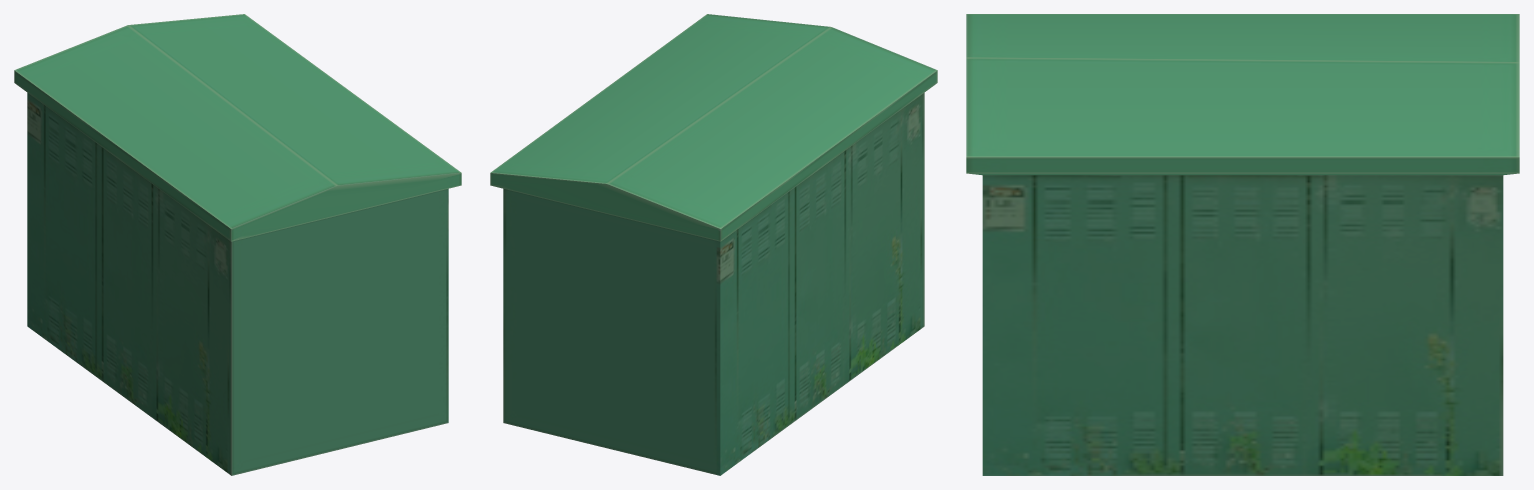
File: Transformer.fbx
3 renders of one model, left to right at view 1: azimuth 30°, elevation 25°; view 2: azimuth 150°, elevation 25°; view 3: azimuth 270°, elevation 25°, orthographic. The views are drawn at different scales.
Parts seen in each view (by area): view 1: Transformer1; view 2: Transformer1; view 3: Transformer1.
Part boxes in pixels (left/top/right/bottom): Transformer1: left=14, top=14, right=461, bottom=475; Transformer1: left=490, top=14, right=937, bottom=475; Transformer1: left=966, top=14, right=1519, bottom=475.
Bounding box in the file's own units: 2.63 × 2.96 × 4.3.
